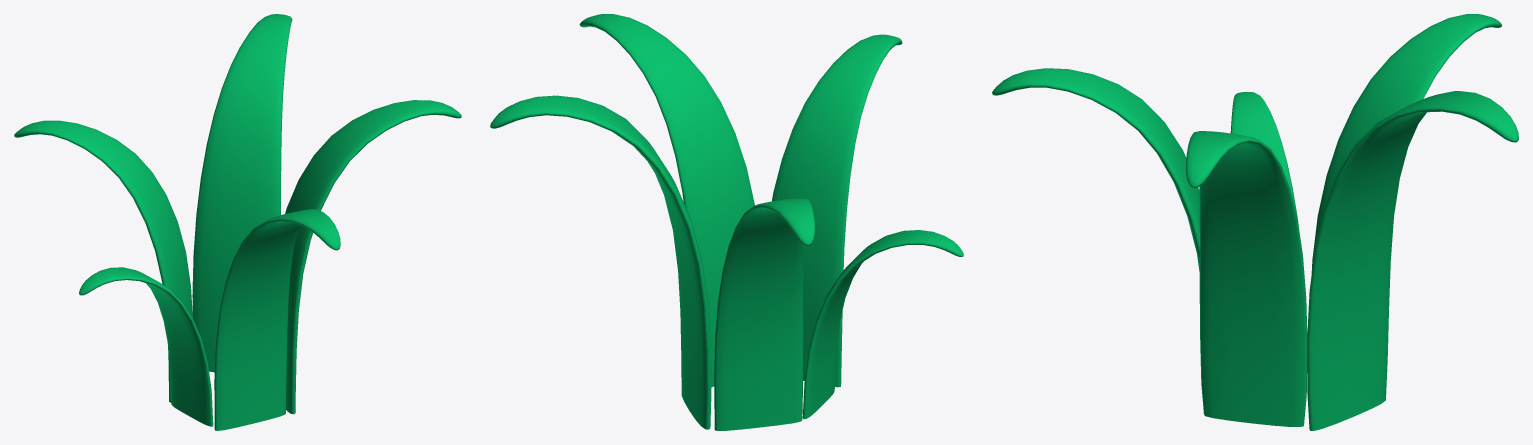
Rendered from Farm_14_Plant_1.glb.
3 renders of one model, left to right at view 1: azimuth 30°, elevation 25°; view 2: azimuth 150°, elevation 25°; view 3: azimuth 270°, elevation 25°, orthographic. The views are drawn at different scales.
Parts seen in each view (by area): view 1: Farm_14_Plant_1; view 2: Farm_14_Plant_1; view 3: Farm_14_Plant_1.
Part boxes in pixels (box(x1,y1,x2,y2)): Farm_14_Plant_1: box(14, 14, 461, 430); Farm_14_Plant_1: box(490, 14, 963, 430); Farm_14_Plant_1: box(992, 14, 1518, 430).
Bounding box in the file's own units: 0.6591 × 0.5076 × 0.661.
Materials: 1 (1 with a texture image).
